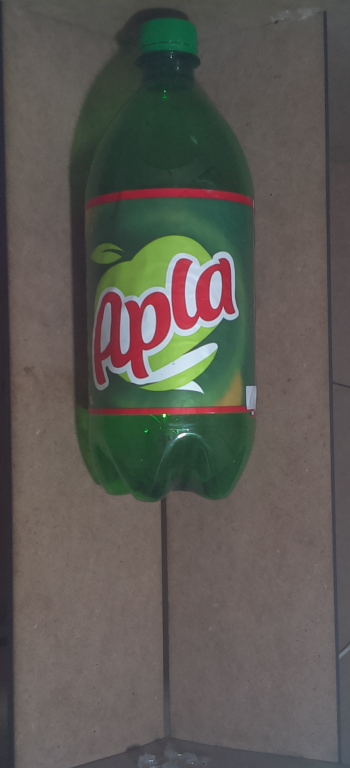Bouteille_1L: (70, 6, 273, 514)
